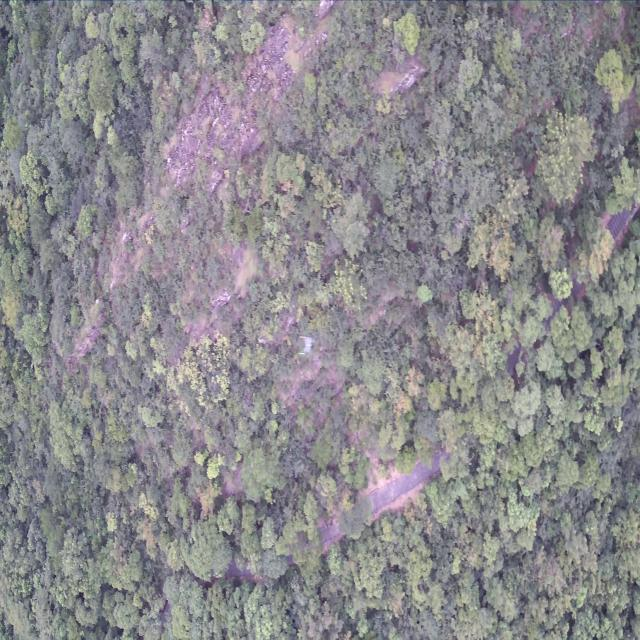UAV: (298, 336, 316, 362)
